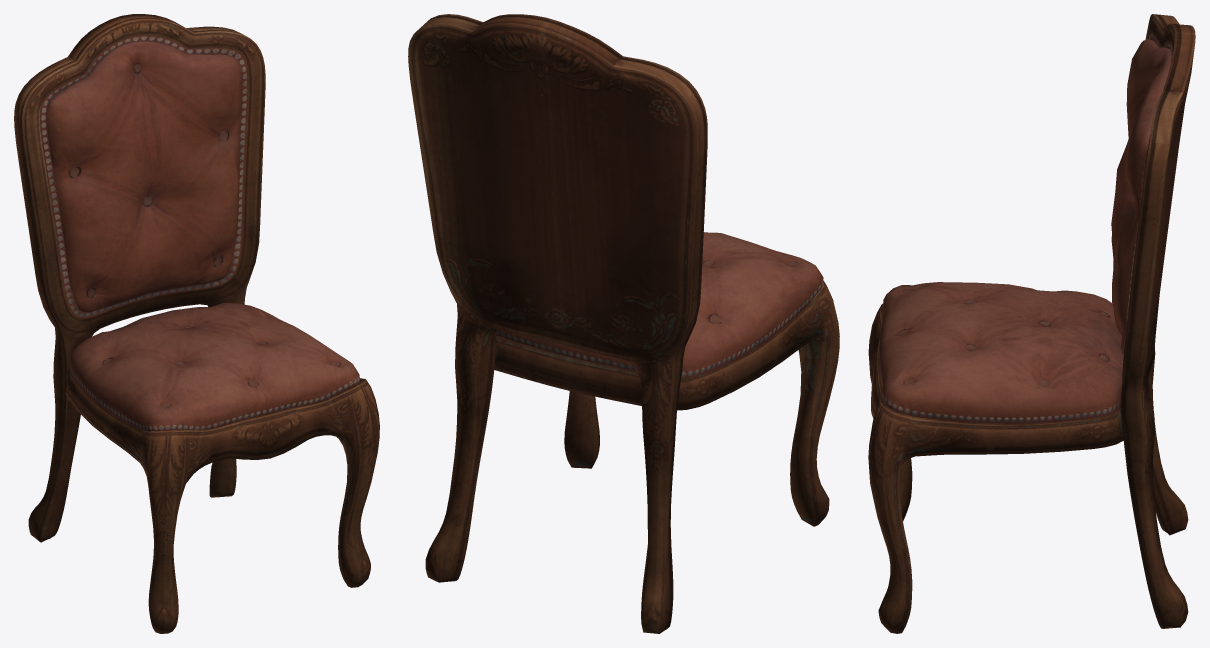
Rendered from cadeira-auditorio-81.glb.
3 views of the same model, side by side, from view 1: azimuth 30°, elevation 25°; view 2: azimuth 150°, elevation 25°; view 3: azimuth 270°, elevation 25° (orthographic). The views are drawn at different scales.
Parts seen in each view (by area): view 1: chair.013; view 2: chair.013; view 3: chair.013.
Boxes of the visible parts, x1=… form: chair.013: x1=14, y1=14, x2=379, y2=633; chair.013: x1=408, y1=14, x2=839, y2=633; chair.013: x1=868, y1=14, x2=1195, y2=633.
Bounding box in the file's own units: 0.7786 × 1.52 × 0.8291.
Materials: 1 (1 with a texture image).
